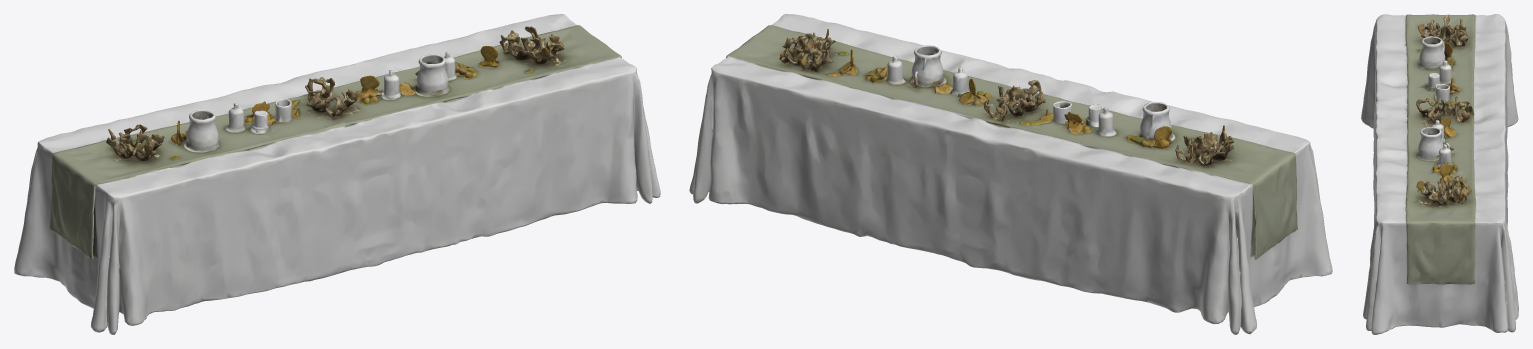
Rendered from longtable.glb.
The picture shows the model from 3 angles, left to right: view 1: azimuth 30°, elevation 25°; view 2: azimuth 150°, elevation 25°; view 3: azimuth 270°, elevation 25°; orthographic projection. The views are drawn at different scales.
Visible parts, largest first — view 1: tripo_node_6cf980d2-4871-473e-b191-0ca9f6d3886c; view 2: tripo_node_6cf980d2-4871-473e-b191-0ca9f6d3886c; view 3: tripo_node_6cf980d2-4871-473e-b191-0ca9f6d3886c.
Boxes of the visible parts, x1,y1,x2,y2 form: tripo_node_6cf980d2-4871-473e-b191-0ca9f6d3886c: (14,14,660,334); tripo_node_6cf980d2-4871-473e-b191-0ca9f6d3886c: (689,14,1332,334); tripo_node_6cf980d2-4871-473e-b191-0ca9f6d3886c: (1361,14,1518,334).
Size of the model in its own units: 1 by 0.272 by 0.2985.
1 material, 1 textured.
